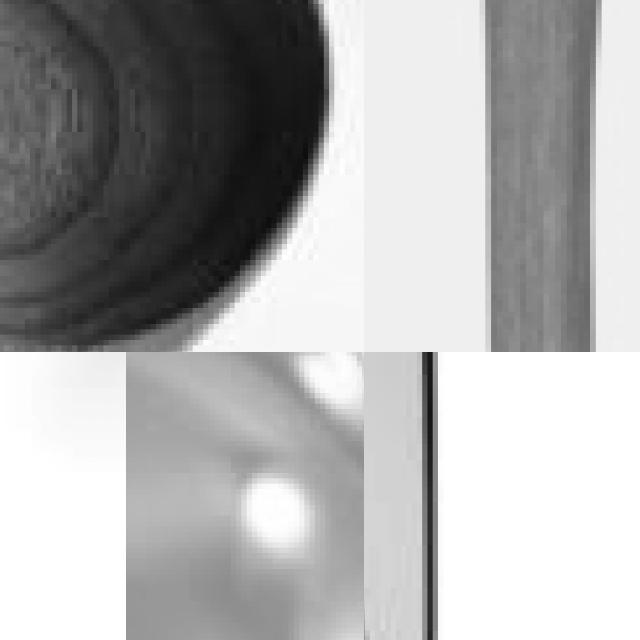spoons: (0, 0, 364, 352), (126, 352, 364, 640)
